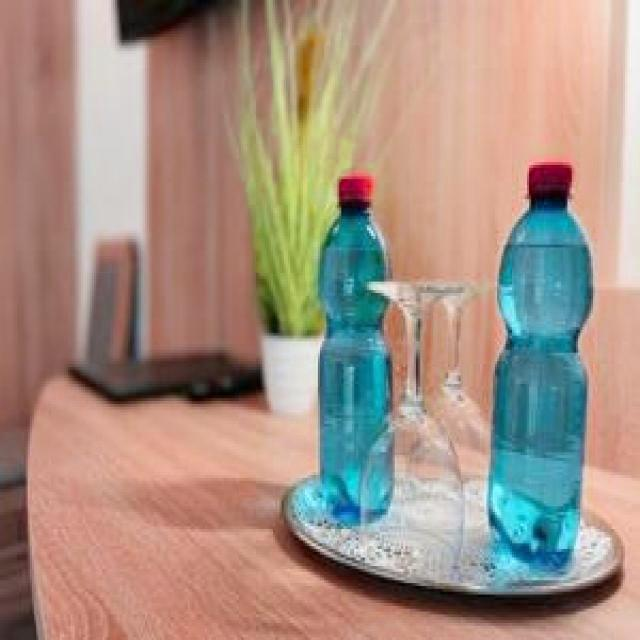bottle: (487, 160, 595, 579), (317, 172, 394, 527)
